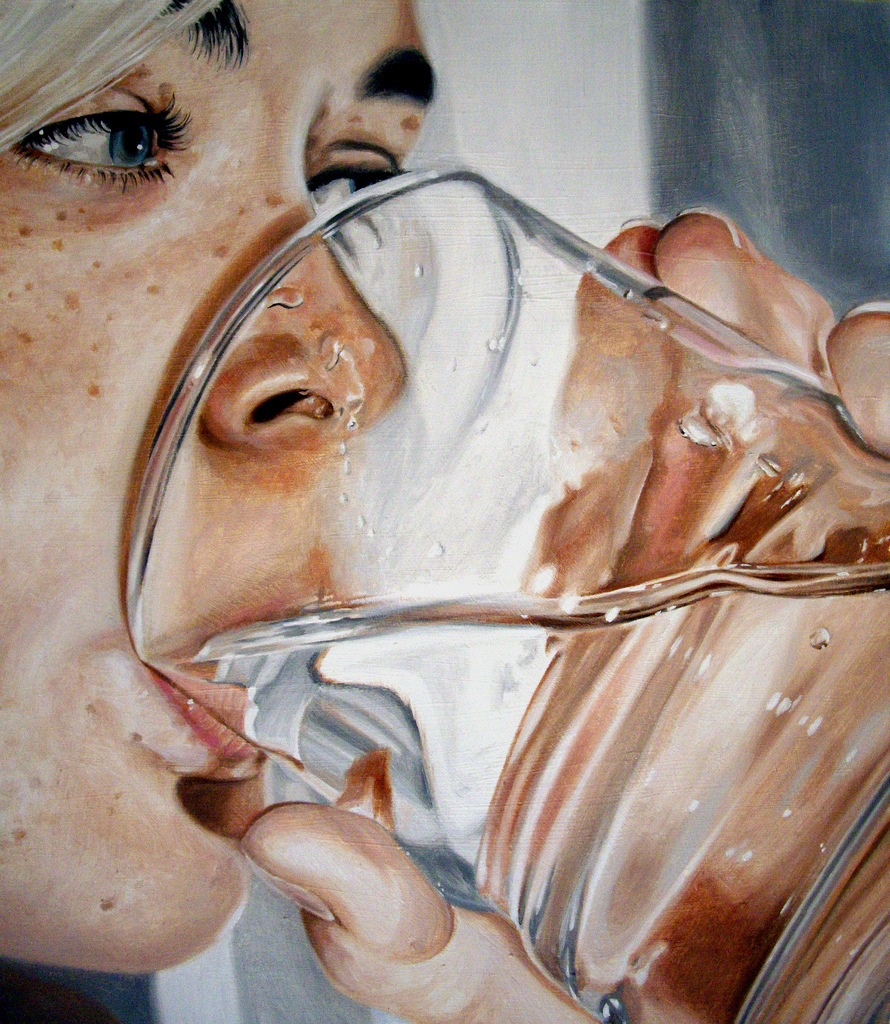glass of water: (197, 457, 890, 975)
